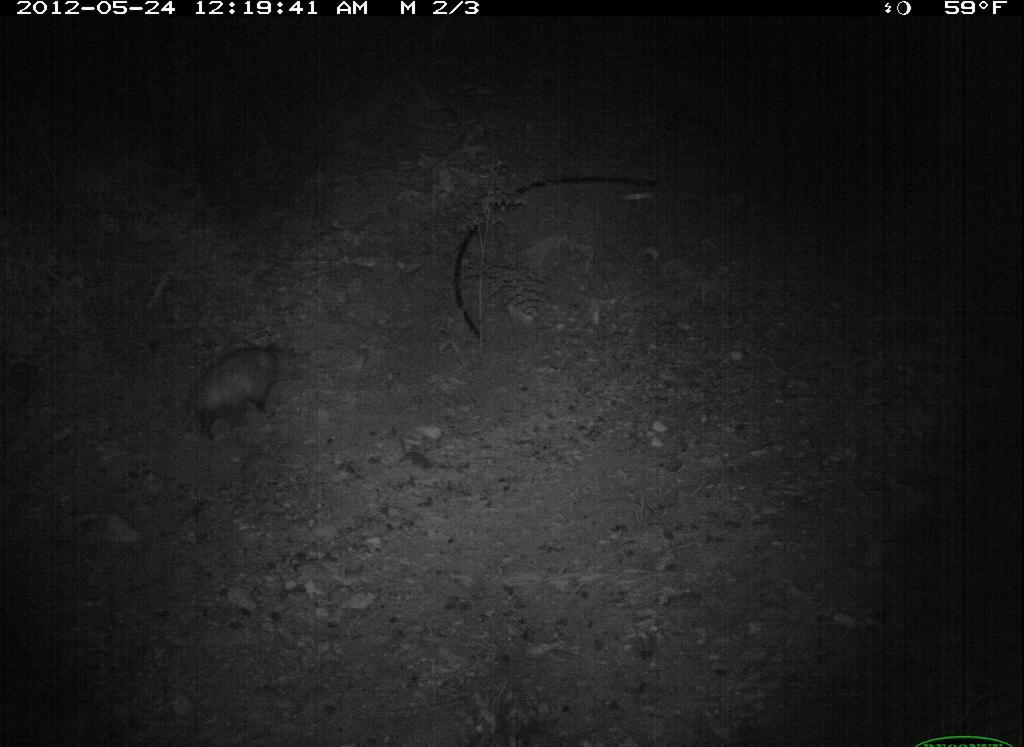opossum: (164, 318, 338, 464)
